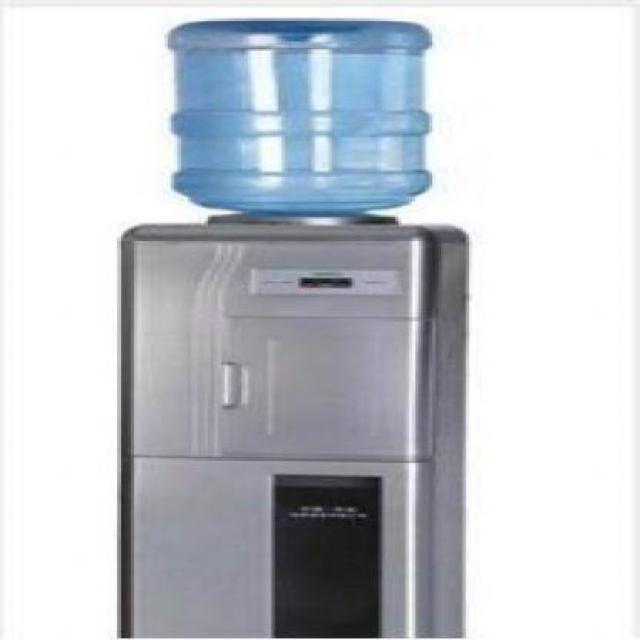cooler: (113, 12, 474, 640)
